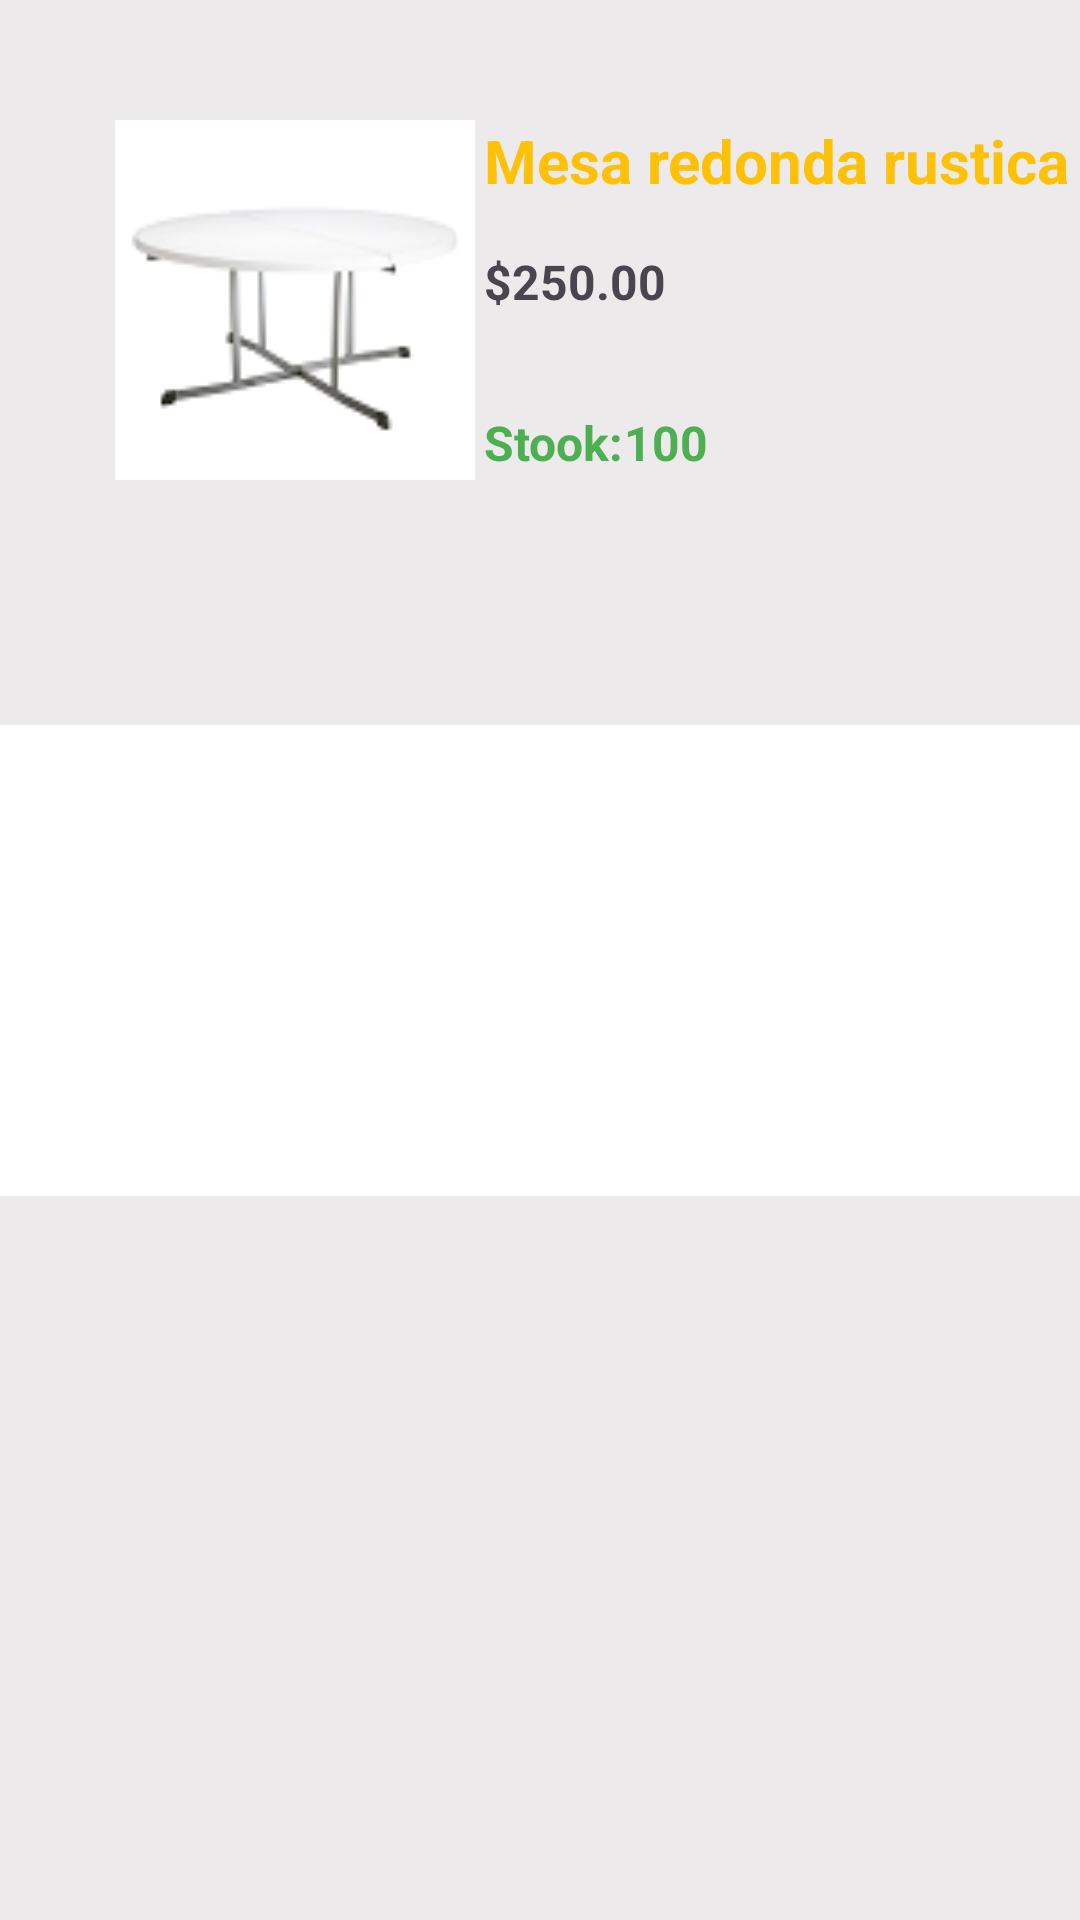

Icons on this 1080px×1920px Android screen, each with the point to tap as (x,y):
mesa plegable: (295,300)
